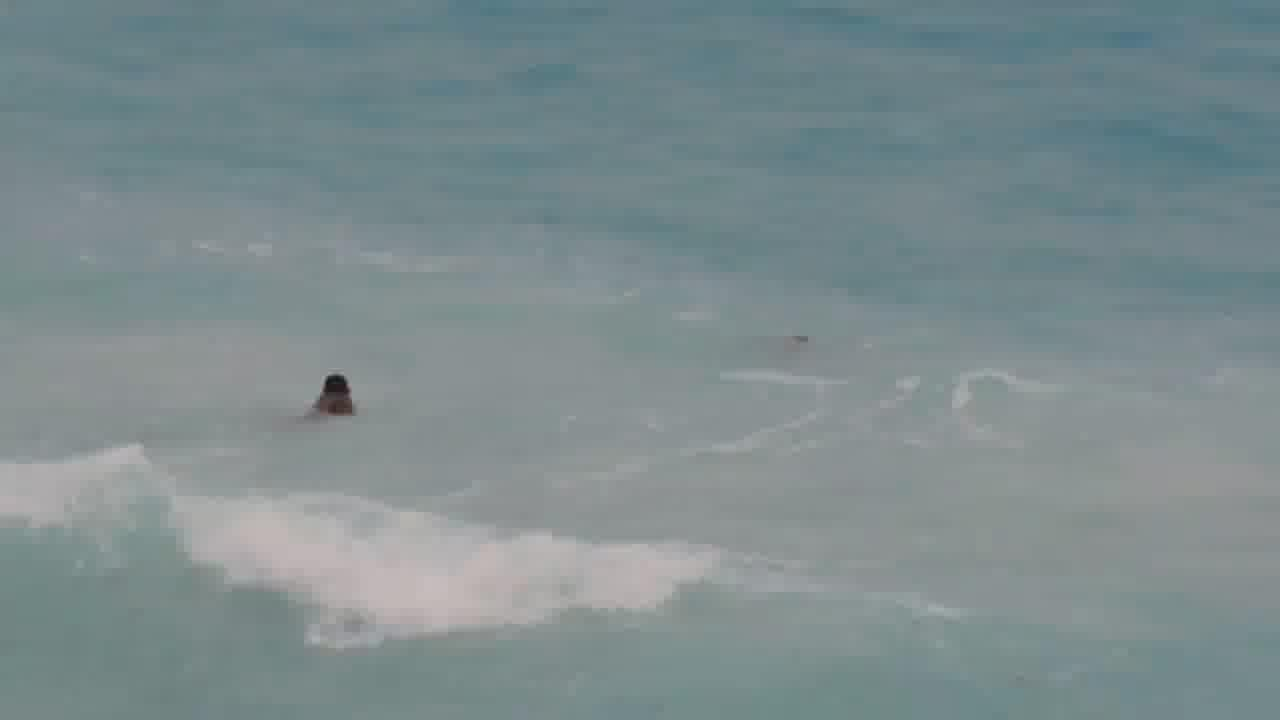human: (298, 365, 364, 421)
